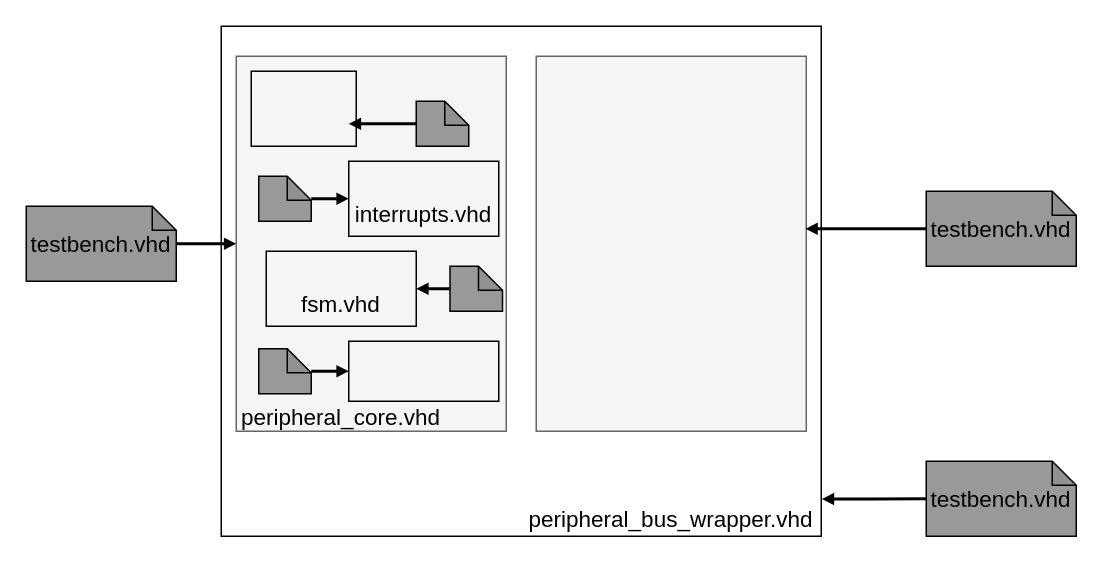
The diagram is 1103 pixels wide and 567 high, and some of its shapes have lost their labels. Here are the shapes that lost their labels. From the top down, the box of each, then its label:
(250, 70, 356, 146): fifo.vhd
(535, 55, 806, 431): controller.vhd
(347, 340, 499, 401): logic.vhd
